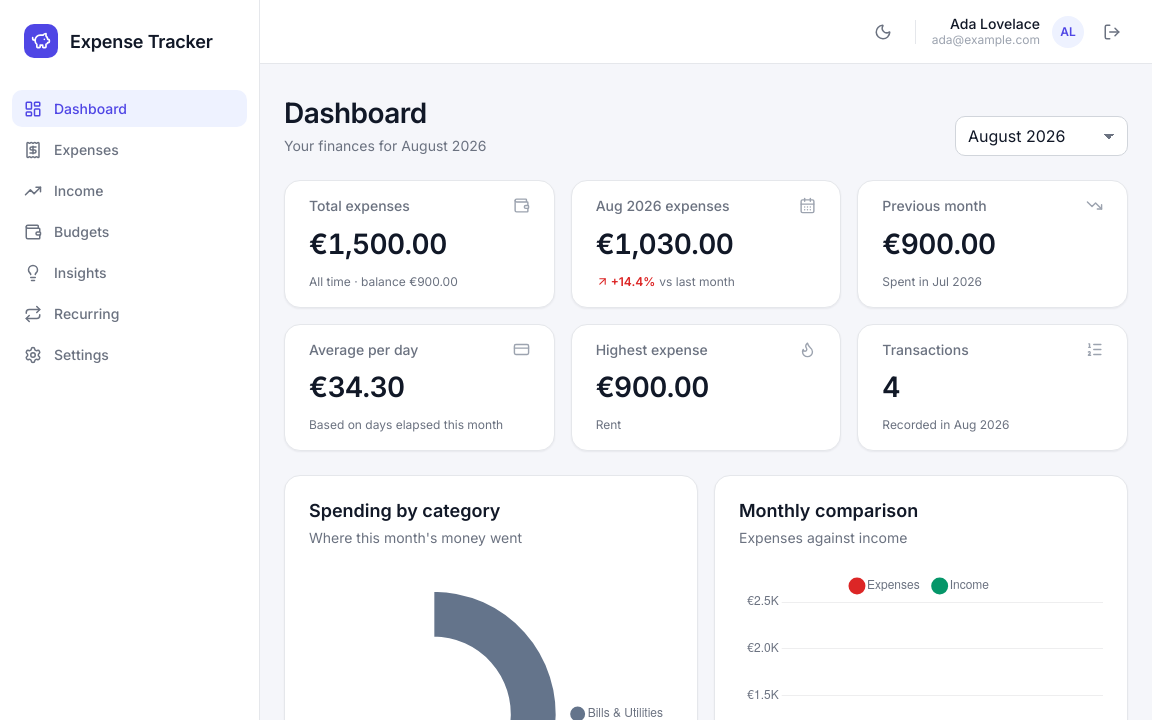
it: application shell › navigates between pages without a full reload
Click the link "Budgets" at (67, 232), box [24,222,109,240]
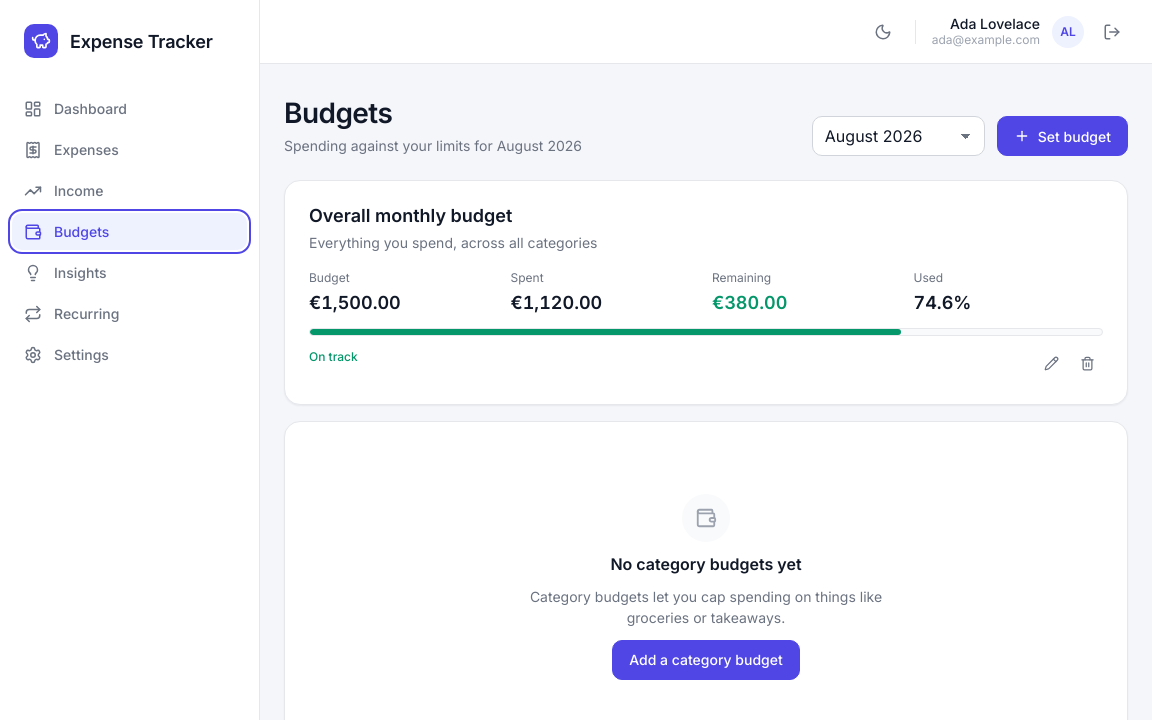
expect the heading "Budgets" is shown: met, box [284,96,392,130]
